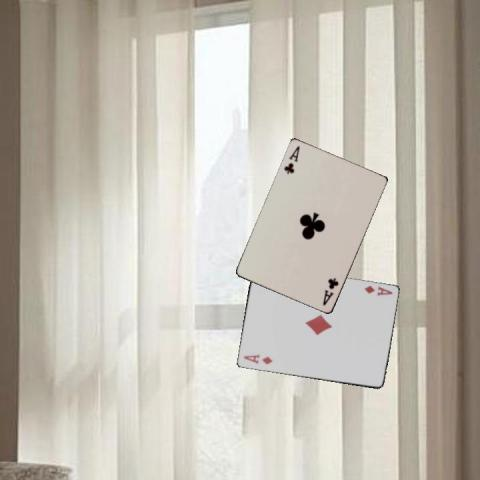Ac: (319, 274, 340, 306), (281, 143, 301, 175)
Ad: (240, 352, 274, 366), (362, 283, 394, 297)
